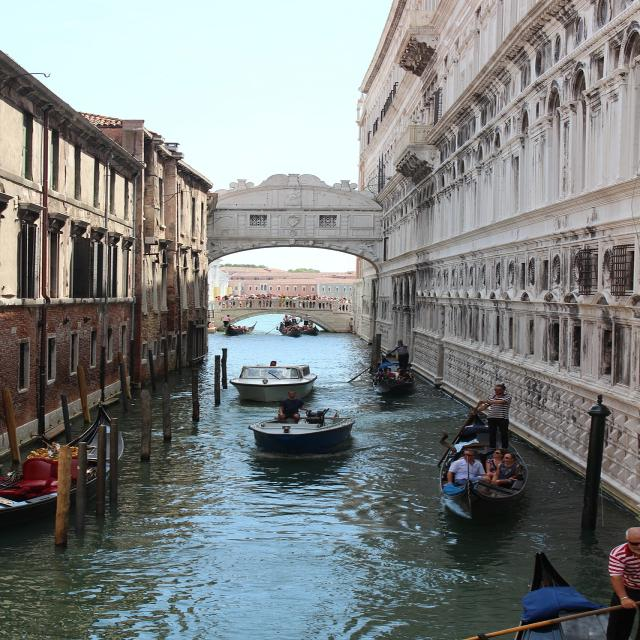boat: (428, 373, 551, 534), (254, 400, 365, 461), (226, 349, 329, 408)
